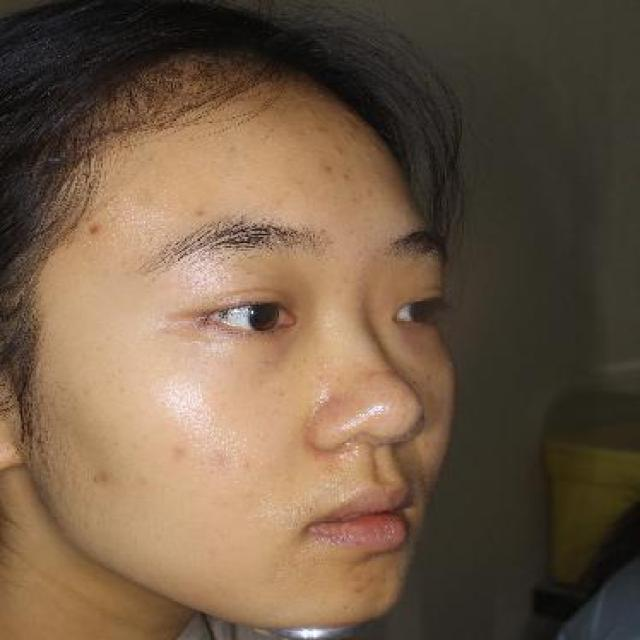darkspot: (92, 462, 114, 489), (167, 443, 191, 463)
